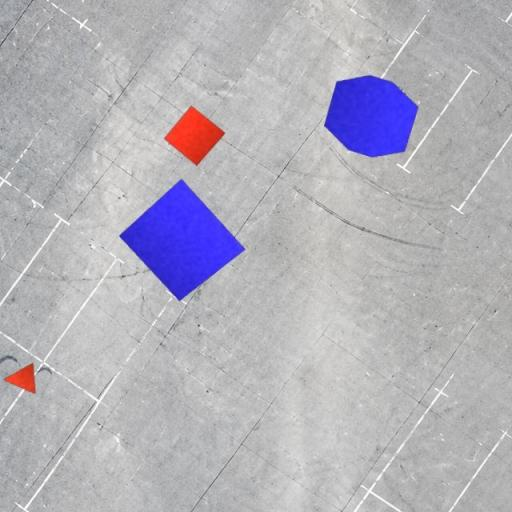BLUE_SQUARE: (118, 178, 246, 302)
RED_SQUARE: (163, 106, 226, 166)
